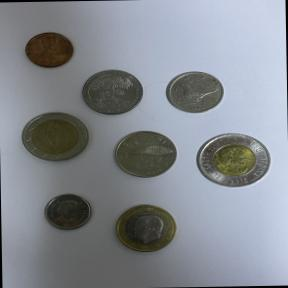coin: (190, 126, 279, 196), (109, 201, 190, 261), (105, 124, 184, 184), (15, 110, 92, 168), (80, 66, 150, 119), (19, 27, 84, 77), (39, 190, 98, 237)
